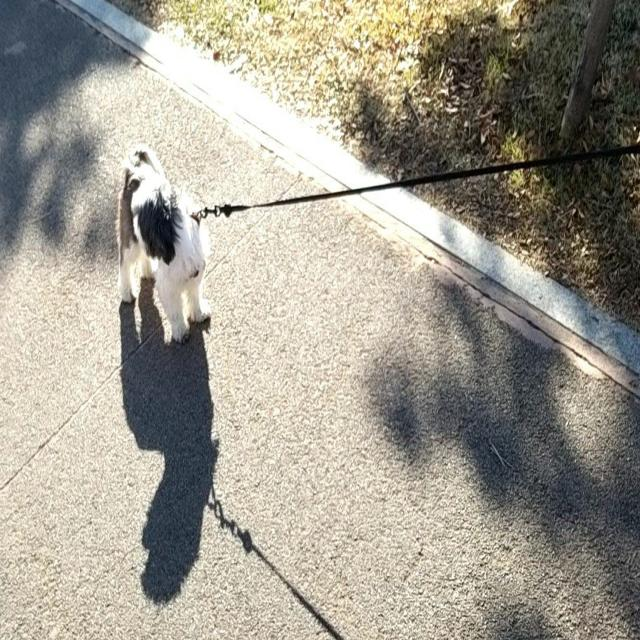Dog: (114, 144, 212, 342)
